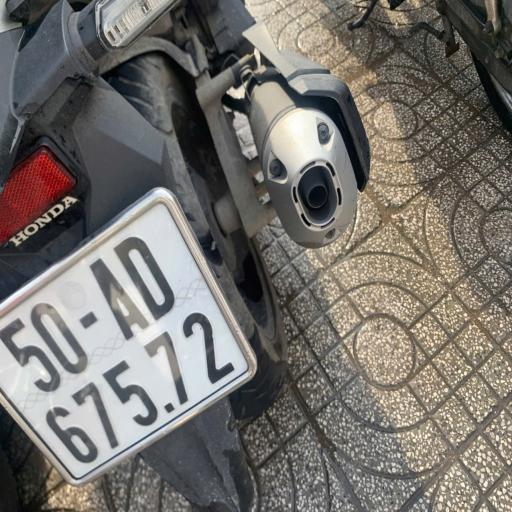0: (29, 299, 97, 376)
2: (184, 300, 234, 393)
5: (0, 312, 62, 409), (98, 357, 159, 429)
6: (40, 397, 99, 474)
7: (142, 333, 195, 420), (72, 382, 127, 463)
A: (87, 252, 147, 352)
D: (117, 232, 182, 323)
